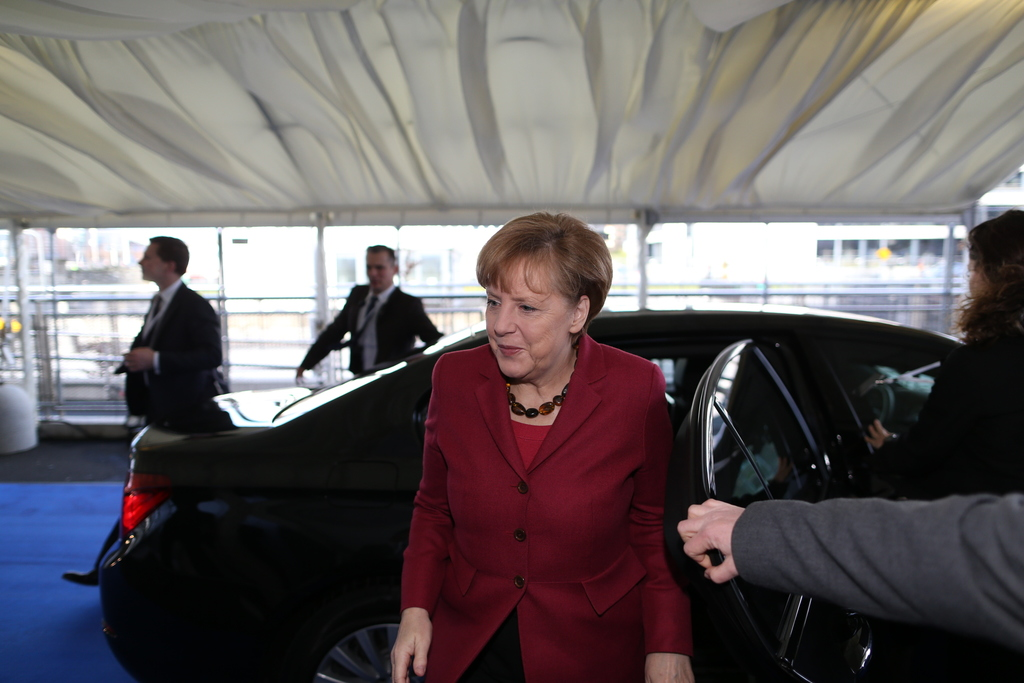Car: (87, 187, 968, 683)
